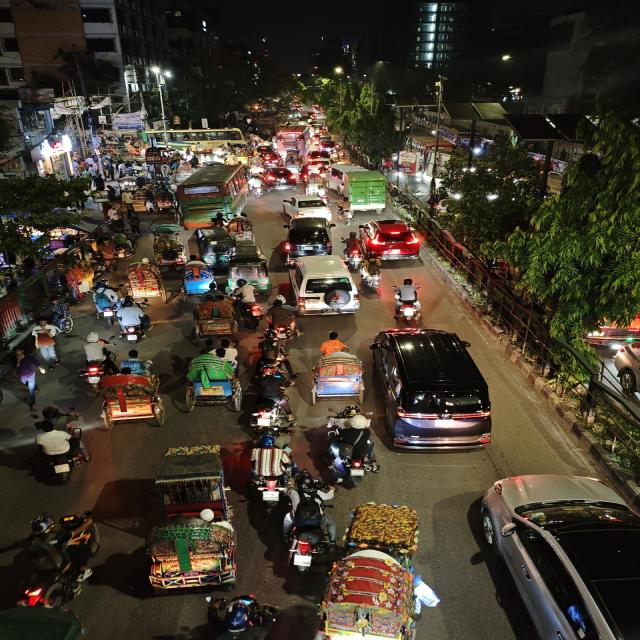bus: (172, 163, 251, 224), (168, 128, 246, 148), (276, 129, 308, 151)
car: (461, 468, 640, 640), (374, 325, 500, 455), (286, 254, 362, 318), (356, 217, 424, 261), (610, 334, 640, 400), (283, 223, 333, 257), (278, 194, 334, 220), (263, 167, 299, 188), (308, 150, 336, 164)
cng: (231, 244, 272, 290), (283, 223, 334, 257), (194, 228, 237, 266)
motorcycle: (21, 508, 102, 606), (323, 406, 380, 484), (30, 409, 89, 484), (243, 430, 295, 506), (208, 592, 280, 640), (277, 516, 331, 574), (245, 389, 292, 433), (76, 339, 114, 391), (392, 278, 426, 326), (263, 296, 298, 342), (294, 466, 338, 502), (254, 339, 290, 381), (115, 298, 147, 344), (233, 278, 263, 322), (356, 255, 386, 295), (341, 233, 364, 269), (332, 202, 355, 224), (247, 175, 267, 199)
pedestrian: (12, 348, 47, 404), (31, 323, 62, 371), (87, 279, 119, 323), (39, 295, 74, 335)
rickshaw: (144, 443, 242, 597), (316, 545, 430, 640), (96, 367, 169, 431), (305, 336, 369, 406), (344, 502, 427, 554), (180, 347, 246, 412), (188, 294, 240, 342), (174, 256, 216, 298), (124, 261, 164, 301), (148, 224, 188, 262), (228, 215, 256, 241), (304, 174, 328, 198), (283, 149, 303, 169)
truck: (342, 171, 390, 209)
